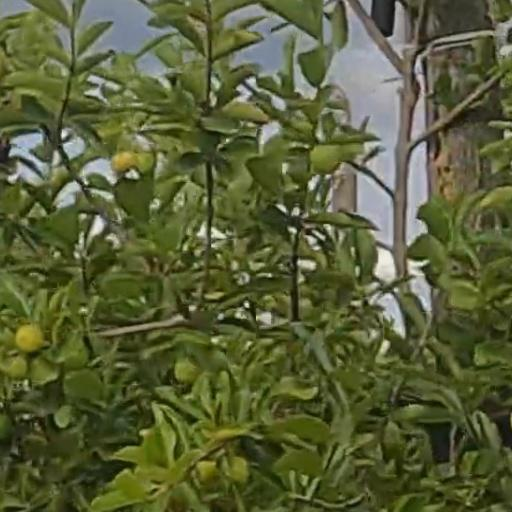acerola_verde: (115, 153, 152, 174), (15, 326, 46, 350)
